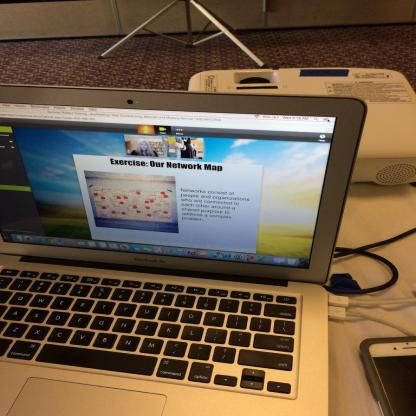board: (0, 79, 381, 416)
